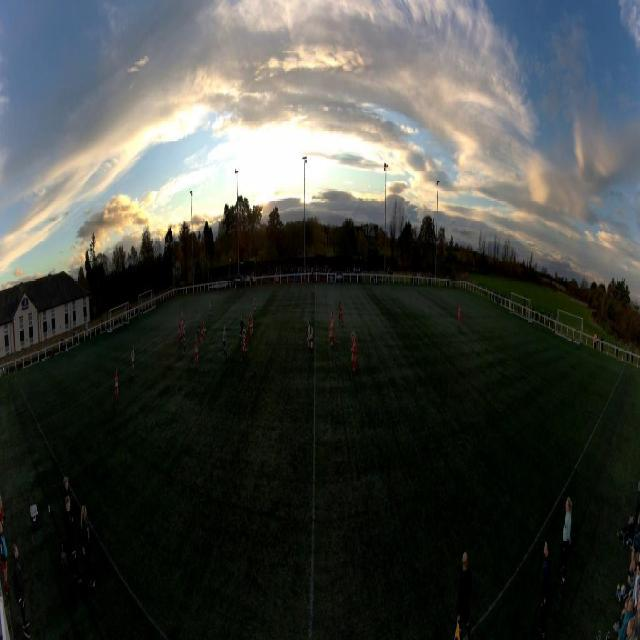ball: (229, 258, 231, 264)
player: (307, 319, 314, 355), (351, 331, 357, 373), (241, 330, 249, 361), (247, 314, 255, 343), (330, 311, 336, 347), (114, 367, 119, 404), (223, 325, 228, 359), (199, 320, 205, 348), (194, 335, 199, 367), (182, 317, 186, 357), (239, 315, 244, 342), (131, 345, 135, 377), (338, 301, 343, 326), (197, 312, 201, 333), (179, 320, 182, 347), (208, 300, 212, 320), (253, 295, 257, 315), (458, 304, 461, 328), (183, 314, 186, 333), (121, 314, 123, 328)
